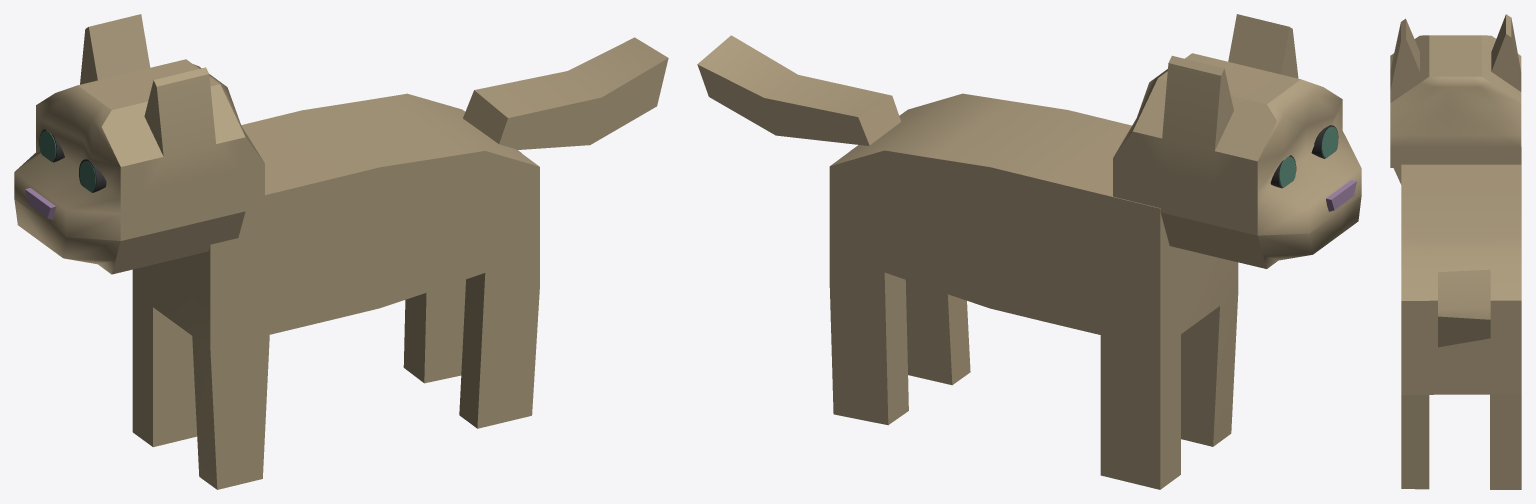
The model's file is dog.fbx.
The picture shows the model from 3 angles, left to right: view 1: azimuth 30°, elevation 25°; view 2: azimuth 150°, elevation 25°; view 3: azimuth 270°, elevation 25°; orthographic projection. The views are drawn at different scales.
Visible parts, largest first — view 1: pCube51; view 2: pCube51; view 3: pCube51.
Boxes of the visible parts, left/top/right/bottom form: pCube51: left=14, top=14, right=668, bottom=489; pCube51: left=697, top=14, right=1361, bottom=489; pCube51: left=1390, top=14, right=1521, bottom=489.
Size of the model in its own units: 4.61 by 3.06 by 1.09.
